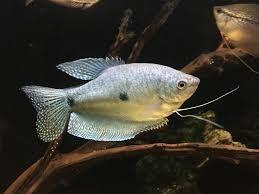Gourami: (20, 56, 243, 143)
